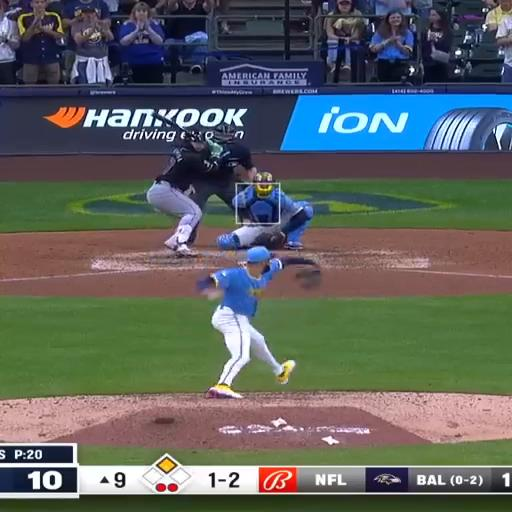bat: (152, 111, 190, 133)
